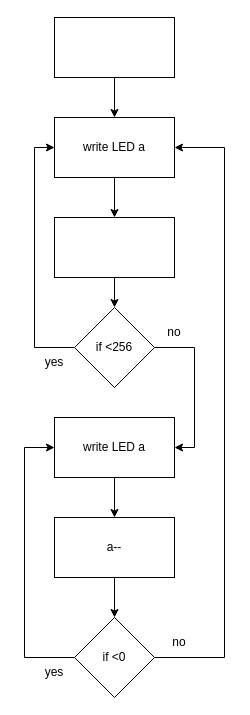
The diagram is 250 pixels wide and 715 high, and some of its shapes have lost their labels. Here are the shapes that lost their labels. From the top down, the box of each, then its label:
(54, 16, 174, 78): int a=0
(54, 216, 174, 278): a++
